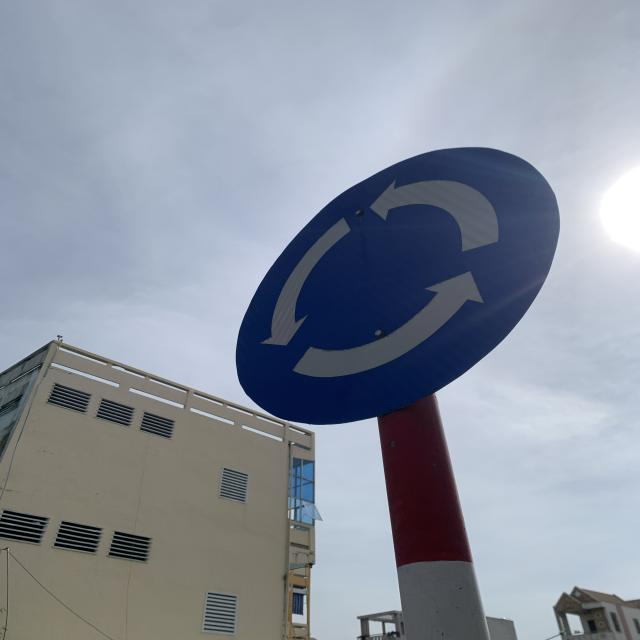Xe_Bus: (238, 146, 558, 427)
